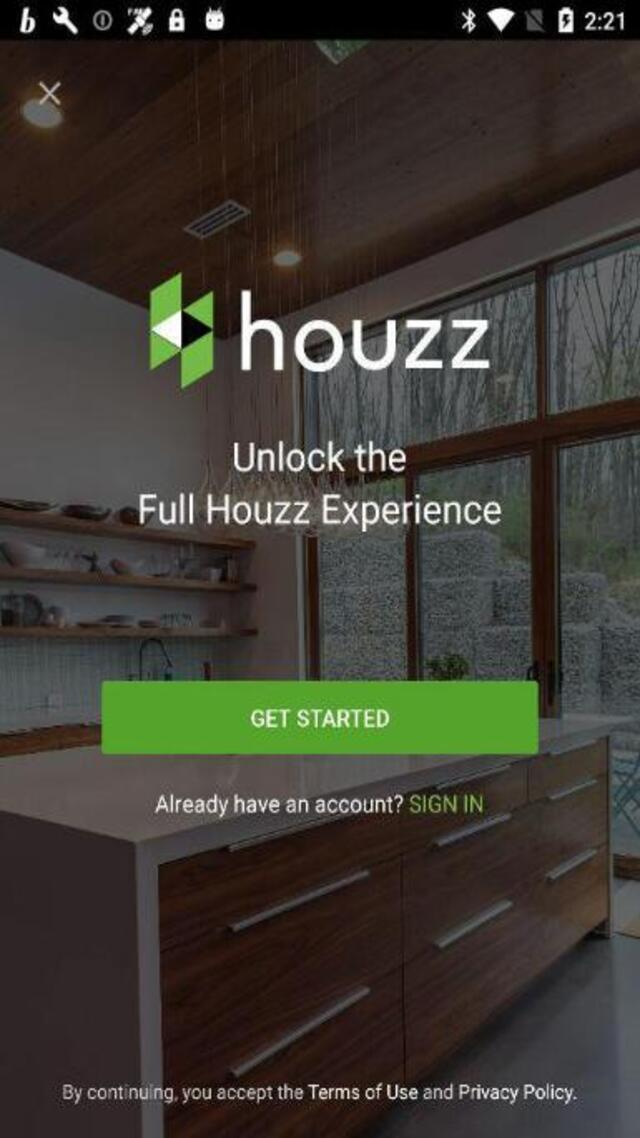Icon: (38, 80, 62, 105)
Image: (150, 271, 515, 392)
Text: (136, 491, 504, 532), (62, 1082, 576, 1105), (155, 791, 482, 816), (229, 441, 407, 474), (248, 705, 394, 731)
TextButton: (100, 680, 538, 753)
